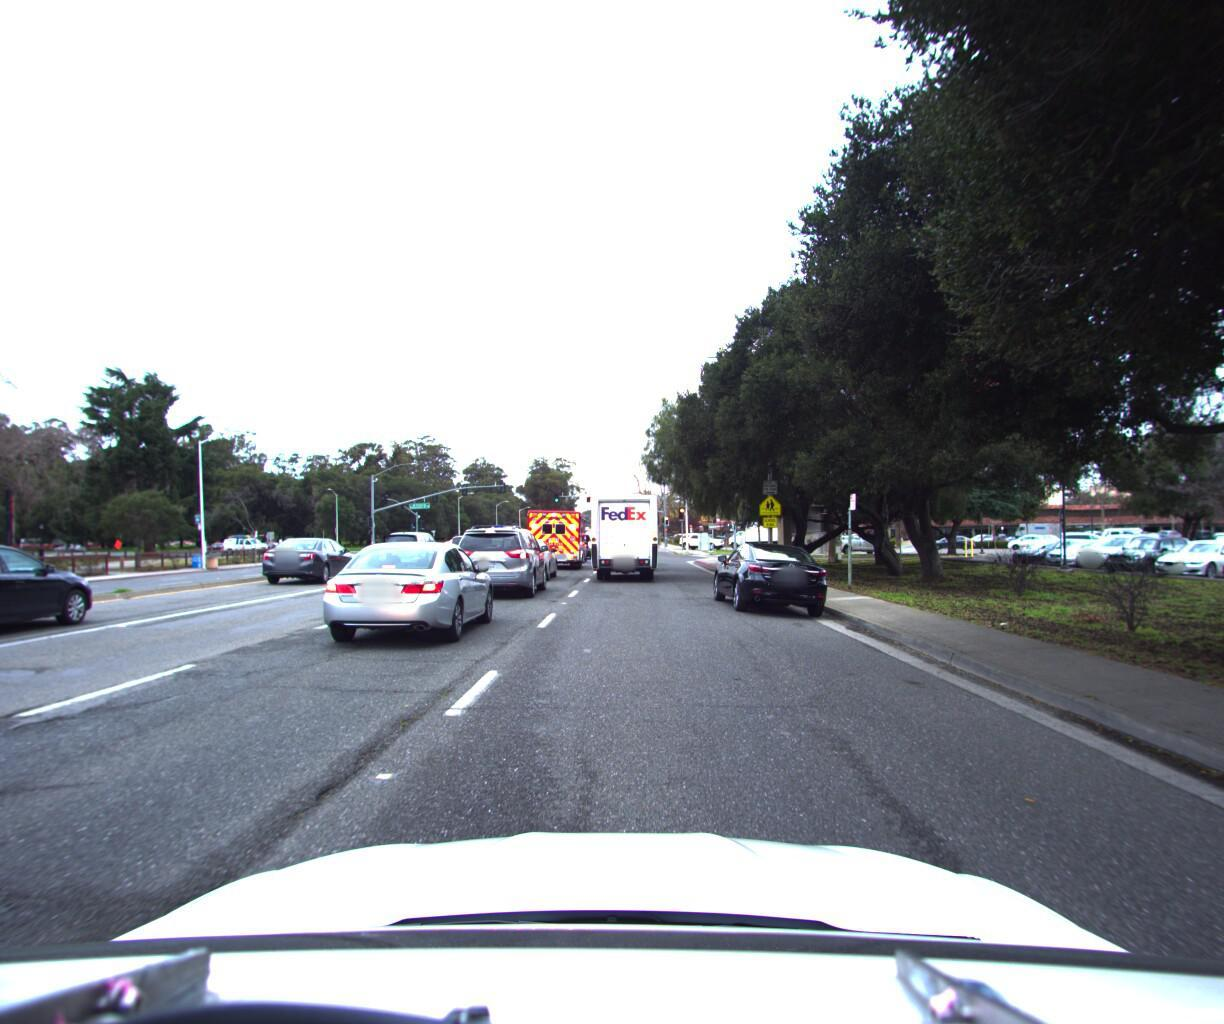car: (311, 530, 507, 654), (709, 532, 833, 618), (452, 518, 552, 596), (263, 534, 361, 583), (497, 531, 559, 578), (441, 530, 501, 566), (389, 531, 444, 564), (830, 526, 891, 549), (1082, 520, 1143, 541), (1000, 522, 1054, 542), (1050, 522, 1106, 541), (927, 527, 976, 545), (684, 528, 728, 542)
emergency_vehicle: (524, 496, 590, 568)
truck: (589, 487, 662, 579)
